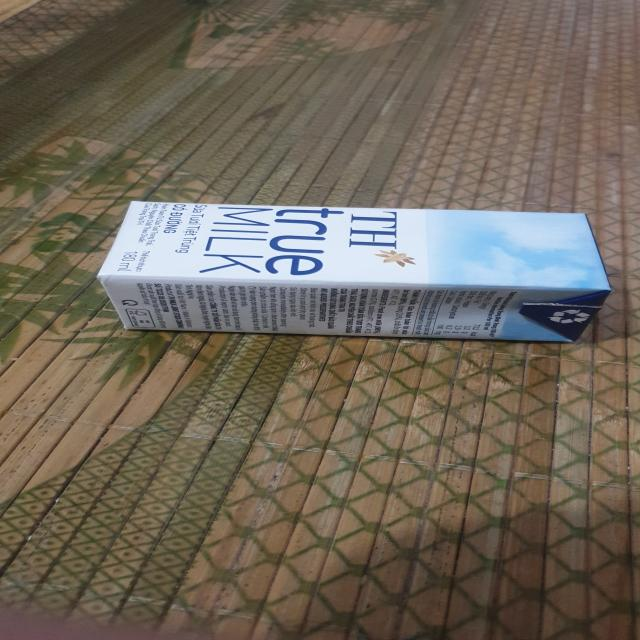TH: (94, 201, 613, 344)
